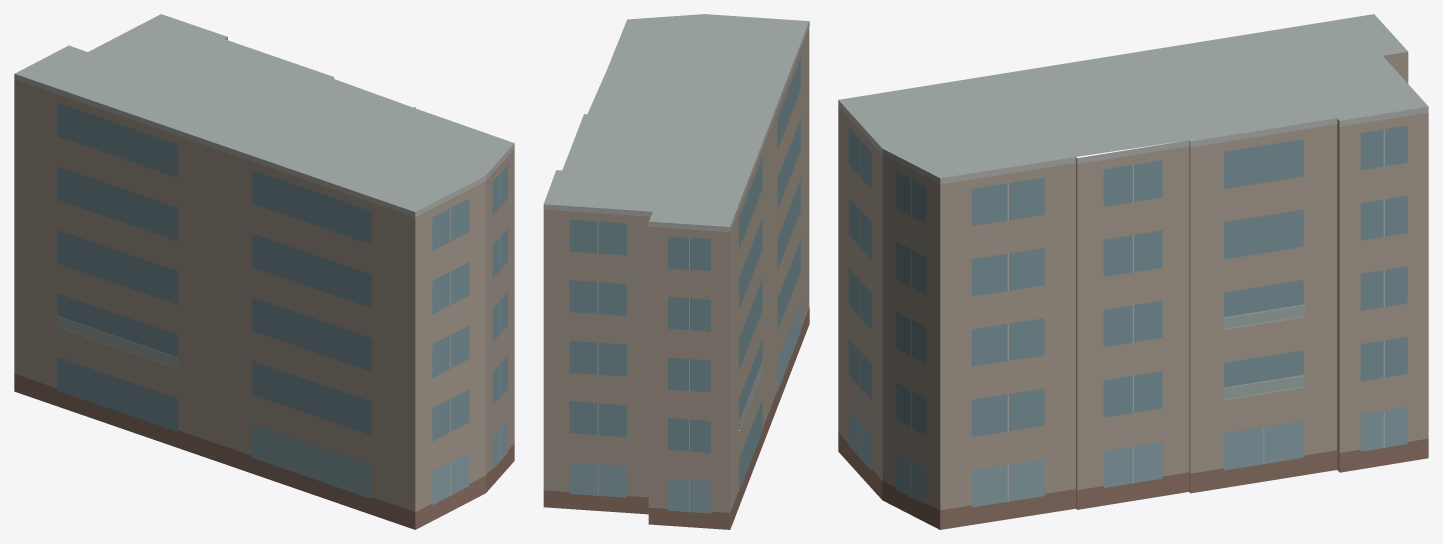
File: survey-upis-32840305.glb
The picture shows the model from 3 angles, left to right: view 1: azimuth 30°, elevation 25°; view 2: azimuth 150°, elevation 25°; view 3: azimuth 270°, elevation 25°; orthographic projection. The views are drawn at different scales.
Visible parts, largest first — view 1: survey-upis-32840305.tmp; view 2: survey-upis-32840305.tmp; view 3: survey-upis-32840305.tmp.
Part boxes in pixels (box(x1,y1,x2,y2)): survey-upis-32840305.tmp: box(14, 14, 514, 529); survey-upis-32840305.tmp: box(543, 14, 809, 529); survey-upis-32840305.tmp: box(838, 14, 1428, 529).
Size of the model in its own units: 14.23 by 14.2 by 21.61.
